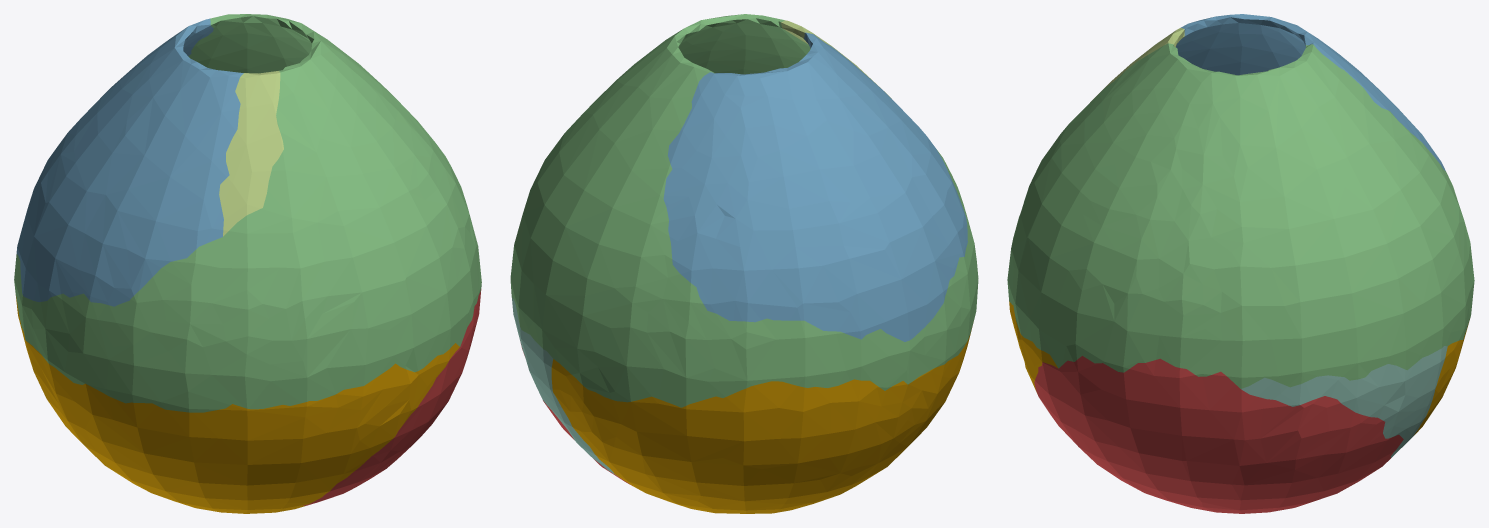
File: fractured_53_6pcs.glb
The picture shows the model from 3 angles, left to right: view 1: azimuth 30°, elevation 25°; view 2: azimuth 150°, elevation 25°; view 3: azimuth 270°, elevation 25°; orthographic projection.
Parts seen in each view (by area): view 1: piece_3.obj, piece_2.obj, piece_0.obj, piece_5.obj, piece_1.obj; view 2: piece_3.obj, piece_2.obj, piece_0.obj, piece_4.obj; view 3: piece_3.obj, piece_1.obj, piece_2.obj, piece_4.obj, piece_0.obj.
Boxes of the visible parts, box(x1,y1,x2,y2) form: piece_3.obj: box(14, 14, 481, 412); piece_2.obj: box(16, 18, 243, 306); piece_0.obj: box(15, 295, 459, 513); piece_5.obj: box(219, 71, 283, 236); piece_1.obj: box(303, 289, 481, 505); piece_3.obj: box(510, 14, 978, 407); piece_2.obj: box(663, 32, 967, 341); piece_0.obj: box(551, 327, 972, 513); piece_4.obj: box(511, 297, 616, 475); piece_3.obj: box(1007, 43, 1474, 388); piece_1.obj: box(1034, 356, 1403, 513); piece_2.obj: box(1176, 14, 1445, 170); piece_4.obj: box(1241, 346, 1447, 457); piece_0.obj: box(1009, 301, 1468, 435).
Size of the model in its own units: 0.9657 by 1 by 0.9658.
